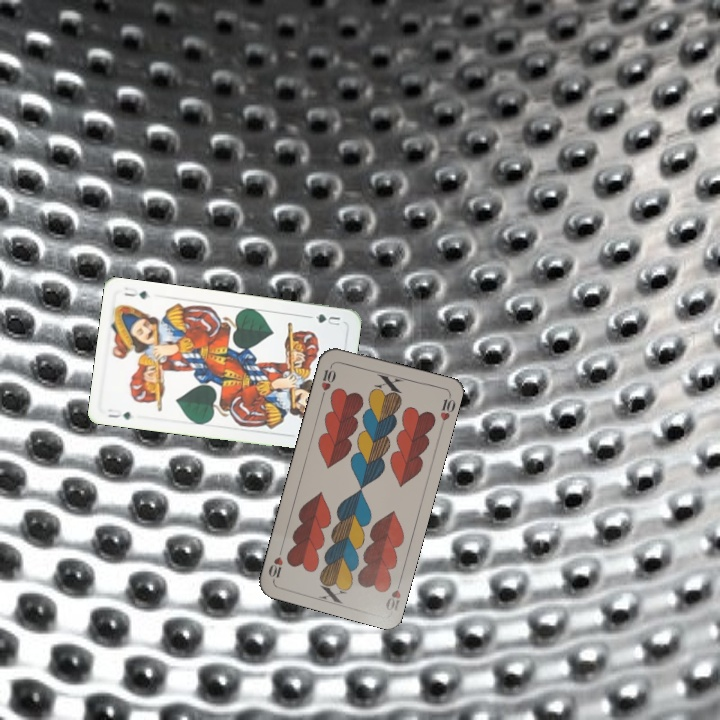GU: (311, 310, 344, 328), (104, 404, 133, 422)
H10: (381, 574, 405, 613), (317, 360, 339, 400)
